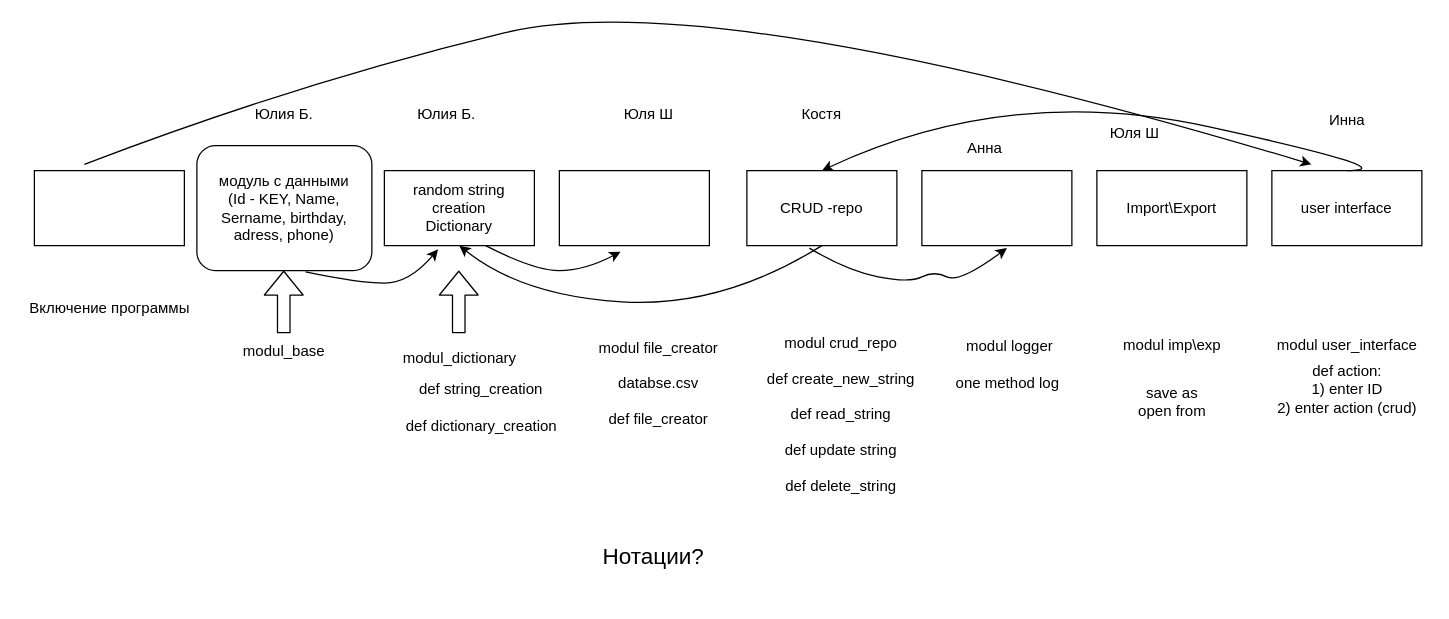
Image size: 1449x619. Some labels were removed from this diagram. The shapes that lost their labels are listed below. From the top down, each one's centre as x and y in pixels, then its label:
At (x=108, y=207): "Main".
At (x=633, y=207): "File creation .csv".
At (x=996, y=207): "Logger".
